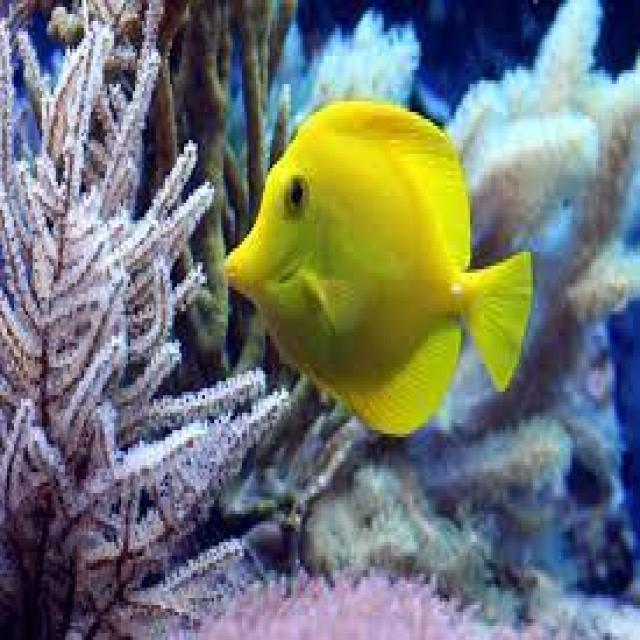YellowTang: (211, 81, 543, 465)
